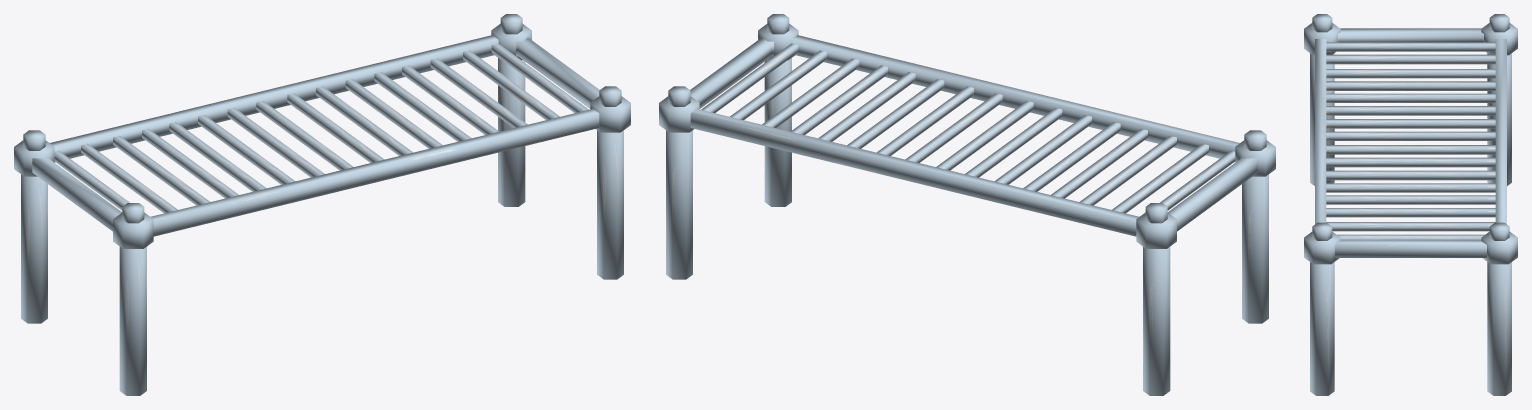
Rendered from Obj_ShelfTray.fbx.
The picture shows the model from 3 angles, left to right: view 1: azimuth 30°, elevation 25°; view 2: azimuth 150°, elevation 25°; view 3: azimuth 270°, elevation 25°; orthographic projection. The views are drawn at different scales.
Visible parts, largest first — view 1: Frame, Tray.001, ConnectorTop, ConnectorBase; view 2: Frame, Tray.001, ConnectorTop, ConnectorBase; view 3: Tray.001, ConnectorTop, Frame, ConnectorBase.
Part boxes in pixels (box(x1,y1,x2,y2)): Frame: box(32, 35, 599, 236); Tray.001: box(54, 43, 588, 213); ConnectorTop: box(21, 14, 623, 395); ConnectorBase: box(14, 24, 630, 248); Frame: box(690, 35, 1257, 236); Tray.001: box(701, 43, 1235, 213); ConnectorTop: box(666, 14, 1268, 395); ConnectorBase: box(659, 24, 1275, 248); Tray.001: box(1326, 42, 1495, 239); ConnectorTop: box(1310, 14, 1511, 395); Frame: box(1315, 28, 1506, 257); ConnectorBase: box(1304, 23, 1517, 264).
Size of the model in its own units: 1563 by 542 by 636.
Materials: 1 (1 with a texture image).
